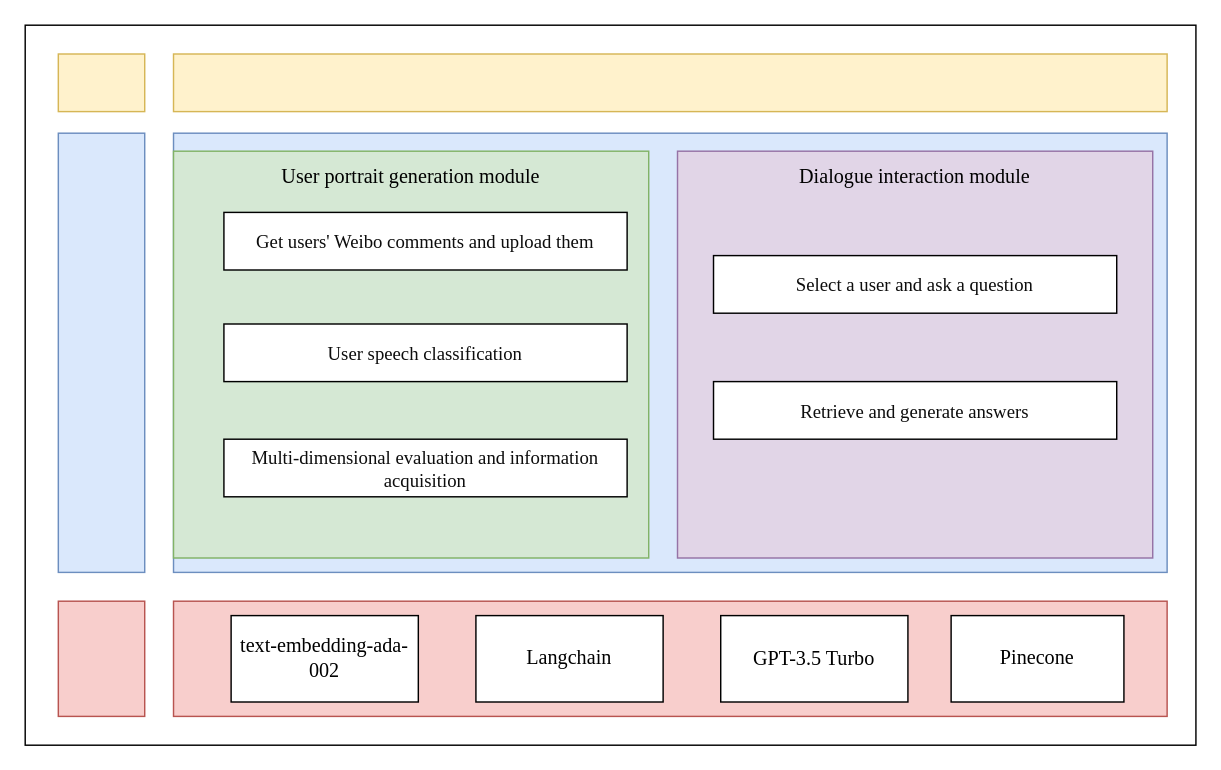
Image size: 1221x770. Some labels were removed from this diagram. Each missing label, with the centre of its shape:
Main modules: (101,352)
service layer: (101,658)
Streamlit: (669,82)
UI layer: (101,82)
